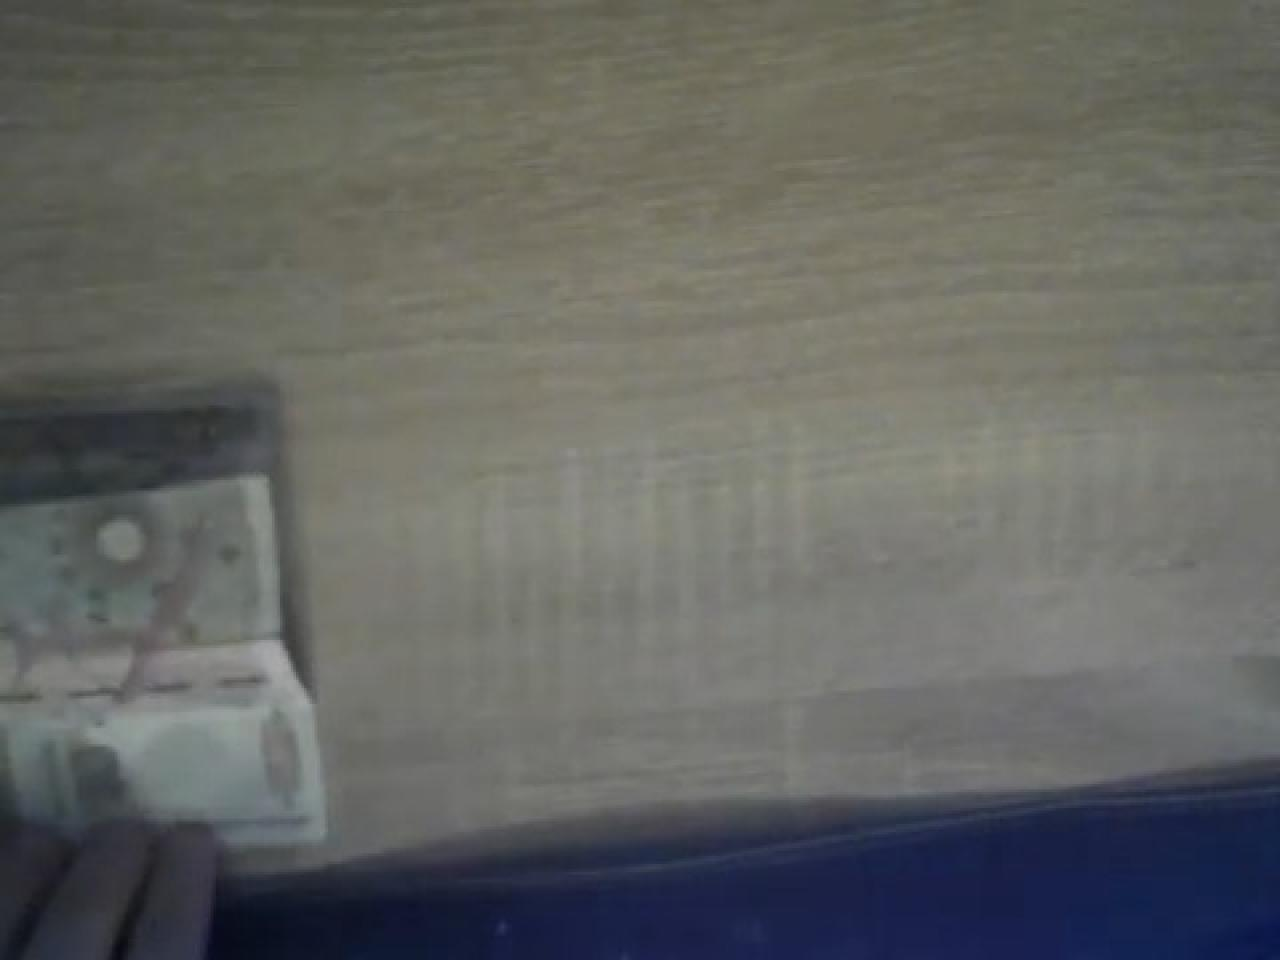10leva: (0, 392, 331, 851)
